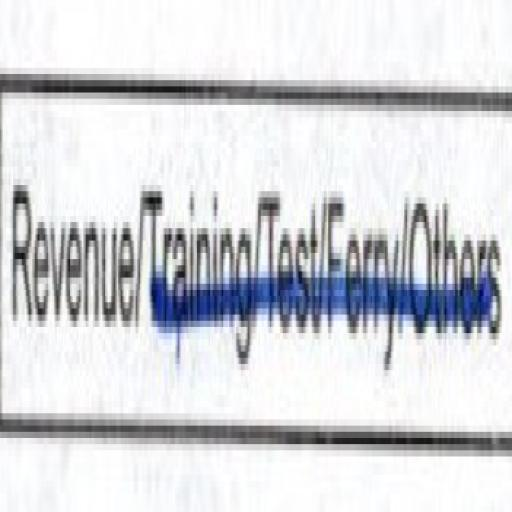check: (0, 13, 138, 512)
